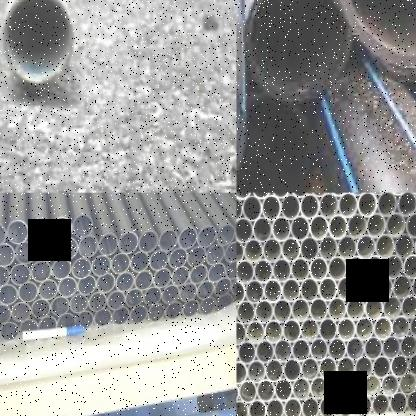pipe: (239, 0, 354, 105), (330, 0, 416, 71), (2, 0, 72, 84), (15, 240, 38, 265), (394, 233, 415, 260), (29, 218, 52, 242), (6, 220, 29, 244), (36, 238, 59, 262), (50, 216, 72, 241), (347, 212, 367, 239), (290, 215, 310, 242), (375, 233, 395, 260), (337, 234, 357, 261), (300, 235, 320, 262), (243, 194, 262, 222), (71, 214, 93, 238), (30, 259, 52, 283), (376, 192, 398, 216), (300, 193, 320, 219), (356, 234, 376, 260), (272, 257, 292, 283), (281, 193, 300, 220), (262, 194, 281, 221), (329, 213, 348, 240), (272, 215, 291, 242), (347, 254, 366, 281), (291, 256, 310, 283), (70, 257, 92, 280), (158, 228, 179, 252), (138, 230, 159, 254), (99, 232, 120, 256), (78, 234, 99, 258), (58, 236, 79, 260), (129, 250, 150, 274), (51, 258, 72, 282), (10, 262, 31, 286), (327, 296, 347, 321), (338, 193, 358, 218), (309, 214, 329, 239), (365, 255, 385, 280), (309, 257, 329, 282), (318, 276, 338, 301), (386, 212, 405, 238), (367, 212, 386, 238), (281, 236, 300, 262), (244, 237, 263, 263), (254, 258, 273, 284), (393, 274, 412, 300), (346, 295, 364, 322), (263, 236, 281, 263), (118, 231, 139, 254), (148, 249, 169, 272), (38, 278, 59, 301), (364, 296, 384, 320), (396, 192, 416, 216), (327, 256, 347, 280), (355, 276, 375, 300), (281, 278, 301, 302), (383, 295, 402, 320), (309, 297, 328, 322), (273, 298, 292, 323), (255, 299, 274, 324), (355, 316, 374, 341), (337, 316, 356, 341), (264, 318, 283, 343), (246, 319, 265, 344), (319, 193, 338, 218), (253, 217, 272, 242), (384, 254, 403, 279), (374, 275, 393, 300), (337, 276, 356, 301), (245, 278, 264, 303), (237, 299, 255, 325), (236, 258, 254, 284), (18, 282, 39, 304), (11, 301, 32, 323), (197, 225, 217, 248), (187, 245, 207, 268), (168, 247, 188, 270), (134, 269, 154, 292), (58, 276, 78, 299), (111, 252, 130, 276), (92, 254, 111, 278), (291, 298, 310, 322), (373, 316, 392, 340), (282, 318, 301, 342), (382, 334, 401, 358), (364, 336, 383, 360), (301, 357, 320, 381), (283, 358, 302, 382), (247, 360, 266, 384), (345, 375, 364, 399), (274, 378, 293, 402), (357, 192, 376, 216), (319, 236, 338, 260), (301, 317, 319, 342), (301, 277, 319, 302), (264, 278, 282, 303), (236, 217, 253, 243), (216, 224, 236, 246), (96, 272, 116, 294), (77, 274, 97, 296), (106, 290, 126, 312), (50, 295, 70, 317), (0, 320, 20, 342), (178, 226, 197, 249), (116, 271, 135, 294), (0, 283, 19, 306), (390, 354, 409, 377), (372, 355, 391, 378), (392, 315, 410, 339), (319, 318, 337, 342), (346, 336, 364, 360), (328, 337, 346, 361), (310, 337, 328, 361), (292, 338, 310, 362), (274, 338, 292, 362), (256, 340, 274, 364), (238, 340, 256, 364), (355, 356, 373, 380), (337, 356, 355, 380), (319, 356, 337, 380), (266, 358, 284, 382), (363, 374, 381, 398), (328, 375, 346, 399), (310, 376, 328, 400), (257, 378, 275, 402), (372, 392, 390, 416), (161, 284, 181, 305), (189, 263, 208, 285), (171, 265, 190, 287), (153, 267, 172, 289), (179, 282, 198, 304), (31, 298, 50, 320), (381, 374, 400, 396), (206, 243, 224, 266), (398, 371, 416, 394), (399, 334, 416, 358), (293, 376, 310, 400), (240, 380, 257, 404), (142, 286, 162, 306), (69, 294, 89, 314), (88, 291, 107, 312), (301, 395, 320, 416), (208, 261, 226, 283), (165, 300, 183, 322), (337, 394, 355, 416), (390, 391, 407, 414), (355, 393, 372, 416), (400, 294, 416, 318), (129, 304, 148, 324), (20, 317, 39, 337), (125, 288, 143, 309), (0, 242, 15, 267), (320, 394, 337, 416), (214, 278, 233, 297), (147, 303, 166, 322), (38, 314, 57, 333), (215, 293, 235, 311), (182, 298, 200, 318), (112, 306, 130, 326), (76, 309, 94, 329), (57, 312, 77, 330), (197, 280, 215, 299), (94, 308, 112, 327), (266, 397, 284, 416), (199, 296, 216, 316), (403, 254, 416, 279), (284, 397, 301, 416), (249, 398, 266, 416), (405, 211, 416, 238), (236, 360, 248, 384), (0, 303, 12, 326), (224, 241, 236, 263), (0, 264, 10, 289), (236, 321, 246, 346), (236, 279, 246, 304), (226, 258, 236, 280), (236, 399, 248, 416), (407, 390, 416, 412), (408, 352, 416, 376), (237, 237, 244, 264), (236, 195, 243, 221), (0, 221, 7, 246), (409, 314, 416, 338), (410, 274, 416, 299), (231, 274, 236, 296), (250, 193, 272, 198), (271, 193, 290, 198)
